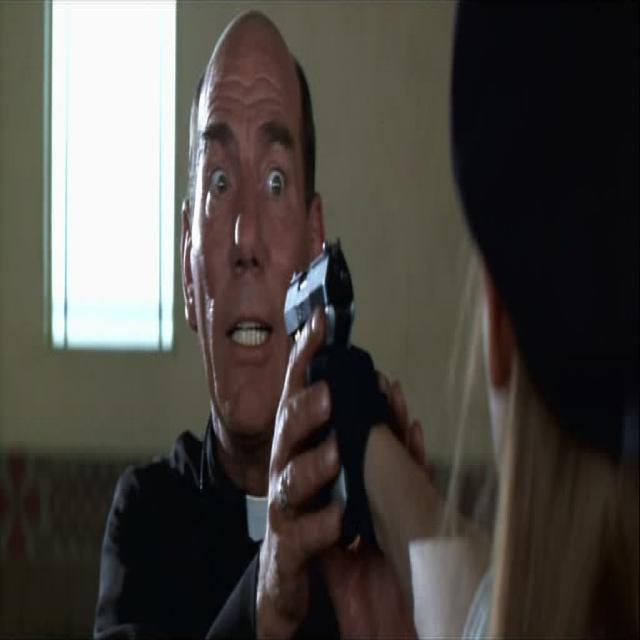gun-knife-thesis - v11 Yolov5 augmented: (270, 227, 420, 576)
